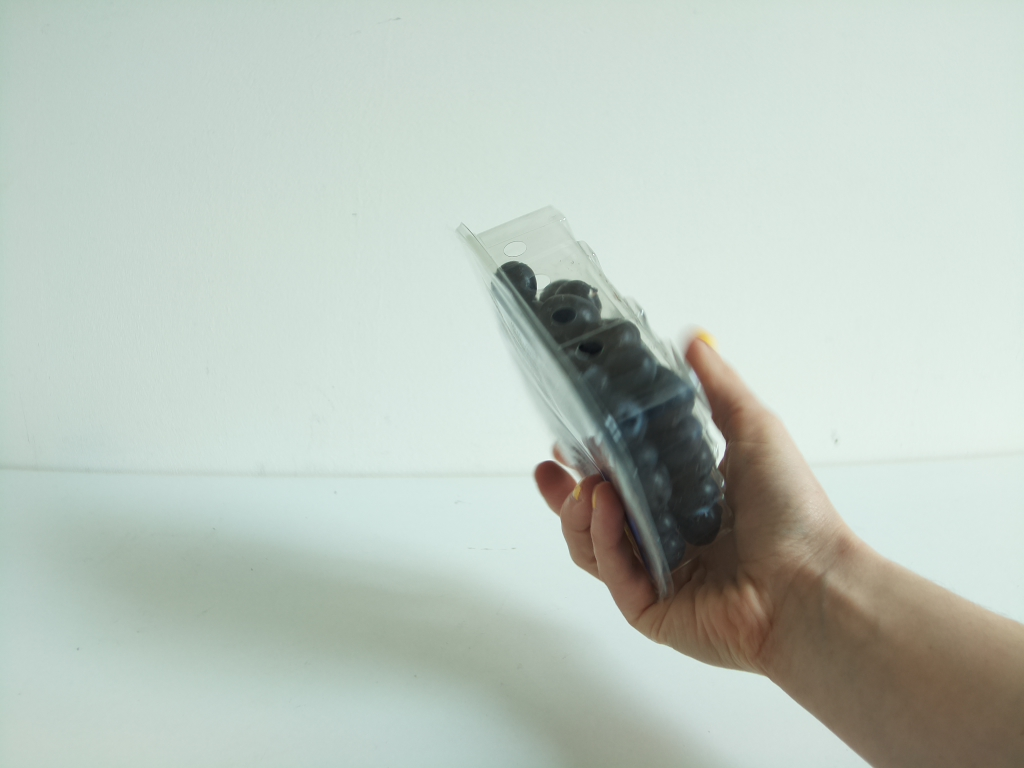soft-fruit: (466, 203, 729, 601)
